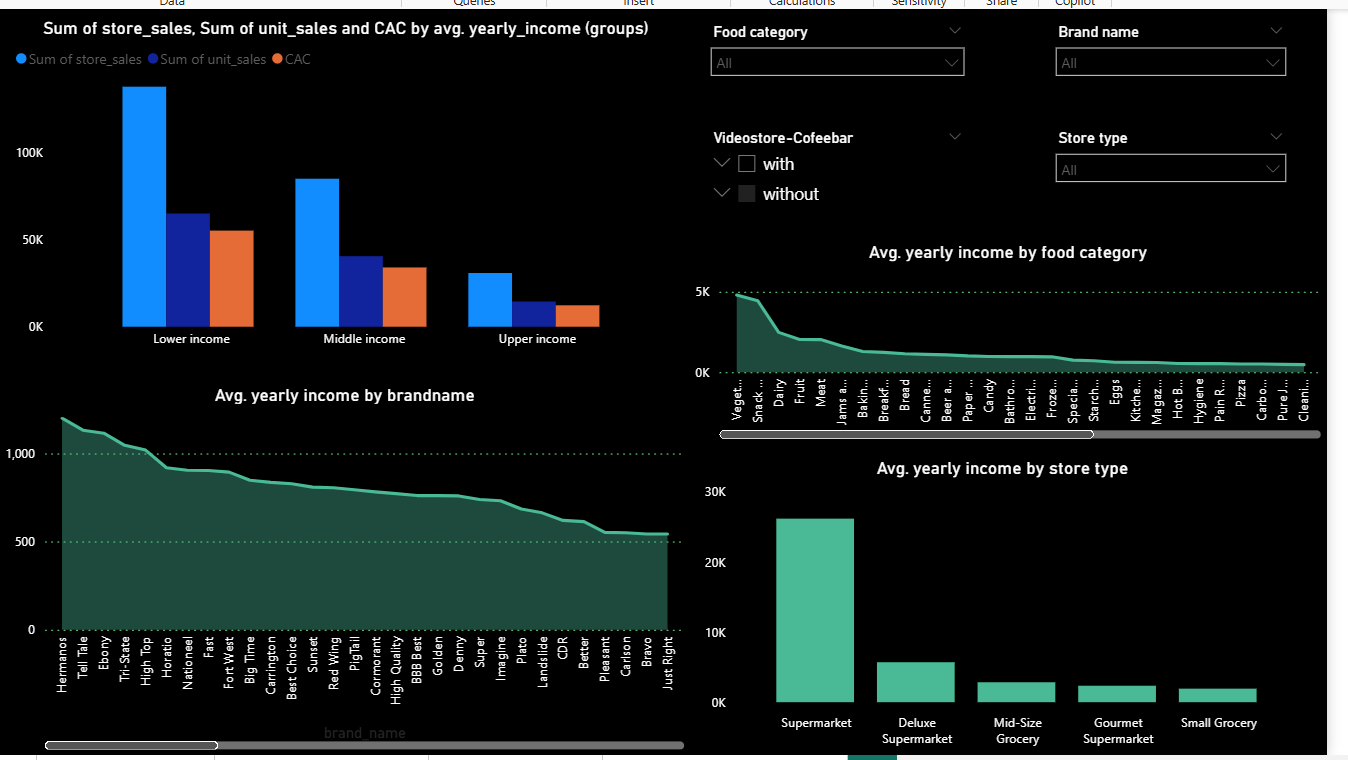

Layout of this report page (visuals, bound fields, positions):
{"tool":"powerbi","page":{"name":"Customer segmentation","canvas":[1280,720],"ordinal":2},"visuals":[{"type":"clusteredColumnChart","fields":{"Category":["media prediction and its cost.avg. yearly_income (groups)"],"Y":["Sum(media prediction and its cost.store_sales)","Sum(media prediction and its cost.unit_sales)","media prediction and its cost.CAC"]},"box":[9.7,8.4,647.9,328.2],"z":0},{"type":"areaChart","title":"Avg. yearly income by brandname","fields":{"Category":["media prediction and its cost.brand_name"],"Y":["CountNonNull(media prediction and its cost.avg. yearly_income (groups))"]},"box":[0,362.3,665.5,358.1],"z":1000},{"type":"columnChart","title":"Avg. yearly income by store type","fields":{"Category":["media prediction and its cost.store_type"],"Y":["CountNonNull(media prediction and its cost.avg. yearly_income (groups))"]},"box":[675.6,433.1,583.9,287.1],"z":2000},{"type":"slicer","fields":{"Values":["media prediction and its cost.food_category"]},"box":[675.6,8.4,265.4,91.7],"z":3000},{"type":"slicer","fields":{"Values":["media prediction and its cost.brand_name"]},"box":[1008.6,8.4,242.5,91.7],"z":4000},{"type":"slicer","fields":{"Values":["media prediction and its cost.store_type"]},"box":[1008.6,111,242.5,91.7],"z":5000},{"type":"slicer","fields":{"Values":["media prediction and its cost.video_store","media prediction and its cost.coffee_bar"]},"box":[675.6,111,265.4,91.7],"z":6000},{"type":"areaChart","title":"Avg. yearly income by food category","fields":{"Category":["media prediction and its cost.food_category"],"Y":["CountNonNull(media prediction and its cost.avg. yearly_income (groups))"]},"box":[666,224.4,614.1,195.4],"z":7000}]}

Visuals, with their boxes on the page's 1280x720 design canvas (x1, y1, x2, y2). These are canvas units, not pixel positions in the 1348x760 screenshot, which may show the page scaled, cropped or inside an application window:
clusteredColumnChart - media prediction and its cost.avg. yearly_income (groups) x Sum(media prediction and its cost.store_sales): 10, 8, 658, 337
"Avg. yearly income by brandname" areaChart: 0, 362, 666, 720
"Avg. yearly income by store type" columnChart: 676, 433, 1260, 720
slicer - media prediction and its cost.food_category: 676, 8, 941, 100
slicer - media prediction and its cost.brand_name: 1009, 8, 1251, 100
slicer - media prediction and its cost.store_type: 1009, 111, 1251, 203
slicer - media prediction and its cost.video_store x media prediction and its cost.coffee_bar: 676, 111, 941, 203
"Avg. yearly income by food category" areaChart: 666, 224, 1280, 420
